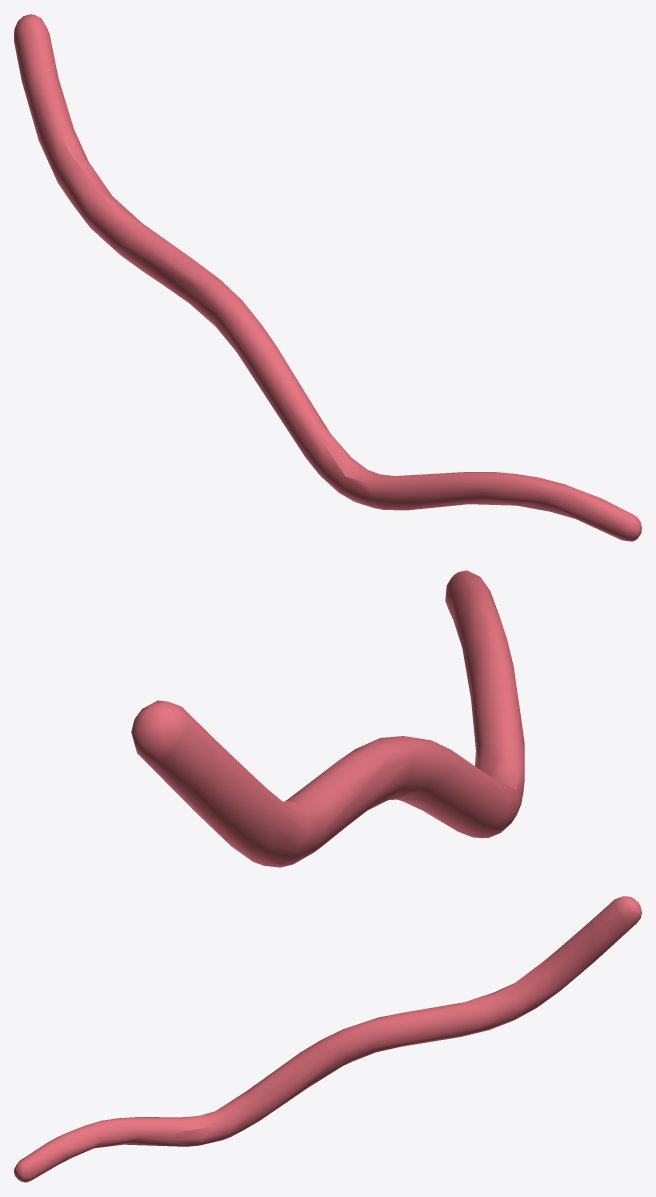
Rendered from fma51242_fj5091.glb.
The picture shows the model from 3 angles, top to bottom: view 1: azimuth 30°, elevation 25°; view 2: azimuth 150°, elevation 25°; view 3: azimuth 270°, elevation 25°; orthographic projection. The views are drawn at different scales.
Visible parts, largest first — view 1: FMA51242_FJ5091; view 2: FMA51242_FJ5091; view 3: FMA51242_FJ5091.
Part boxes in pixels (box(x1,y1,x2,y2)): FMA51242_FJ5091: box(14, 14, 641, 541); FMA51242_FJ5091: box(131, 570, 524, 867); FMA51242_FJ5091: box(14, 896, 641, 1182).
Bounding box in the file's own units: 0.0131 × 0.0158 × 0.0401.
